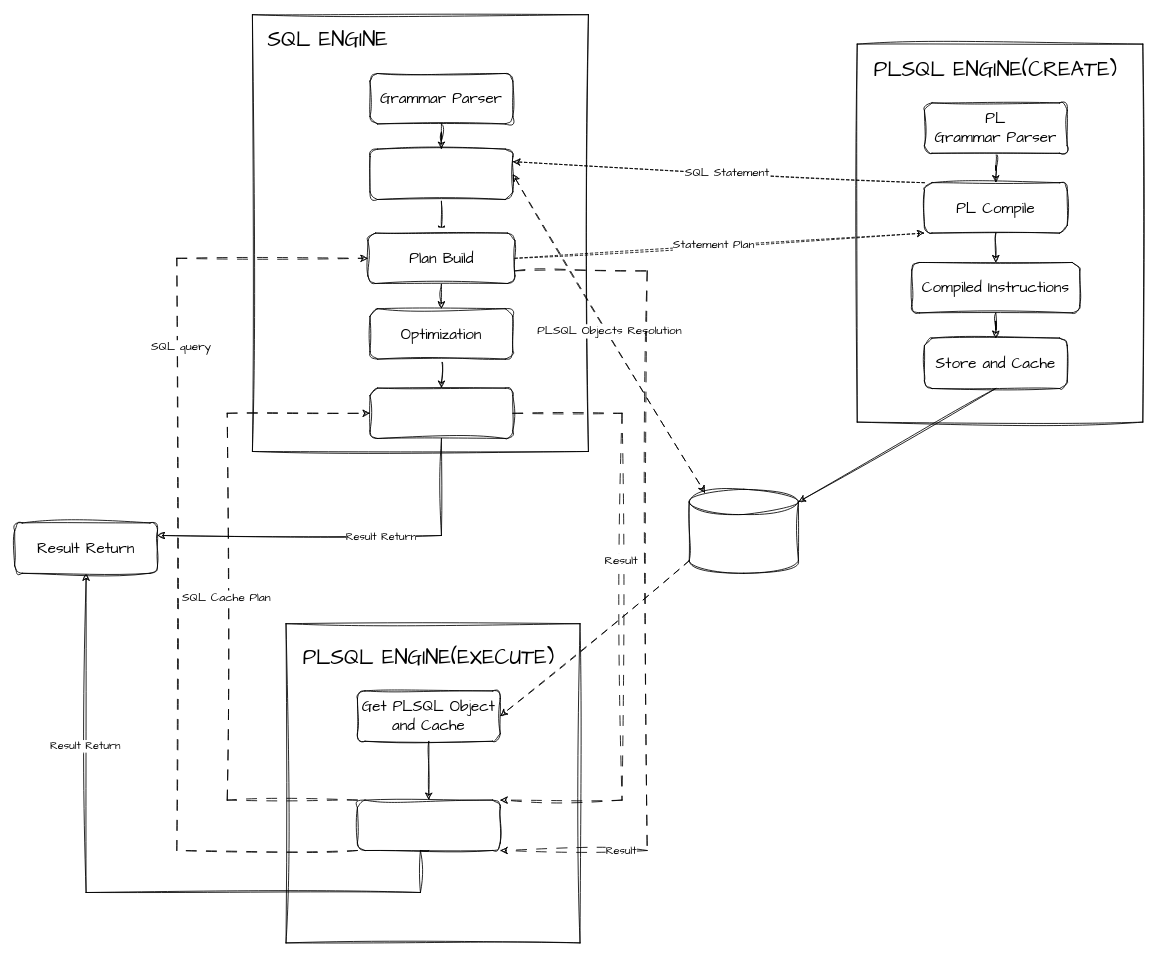
Some shapes in this 1158 by 958 pixel diagram are drawn without their labels. Here are the shapes that lost their labels. From the top down, the box of each, then its label:
(369, 148, 513, 200): Semantic Analysis
(369, 387, 513, 438): Execute
(688, 488, 798, 573): PL MetaStore
(357, 799, 500, 850): PL Executor
